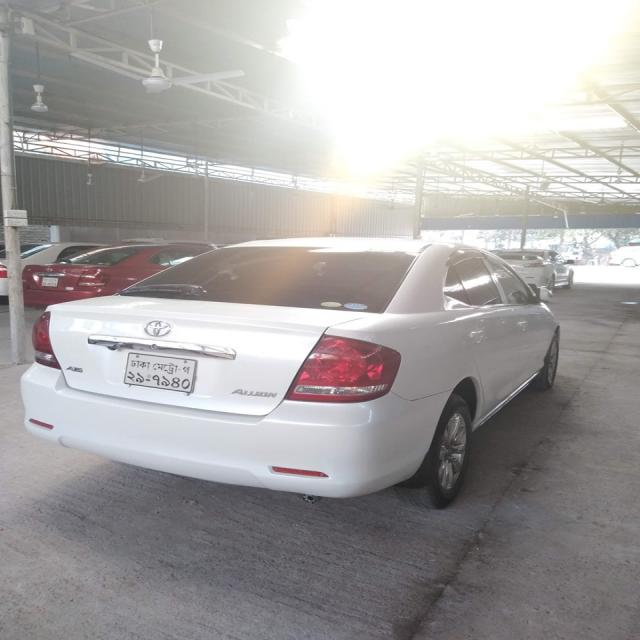car: (19, 236, 572, 541)
